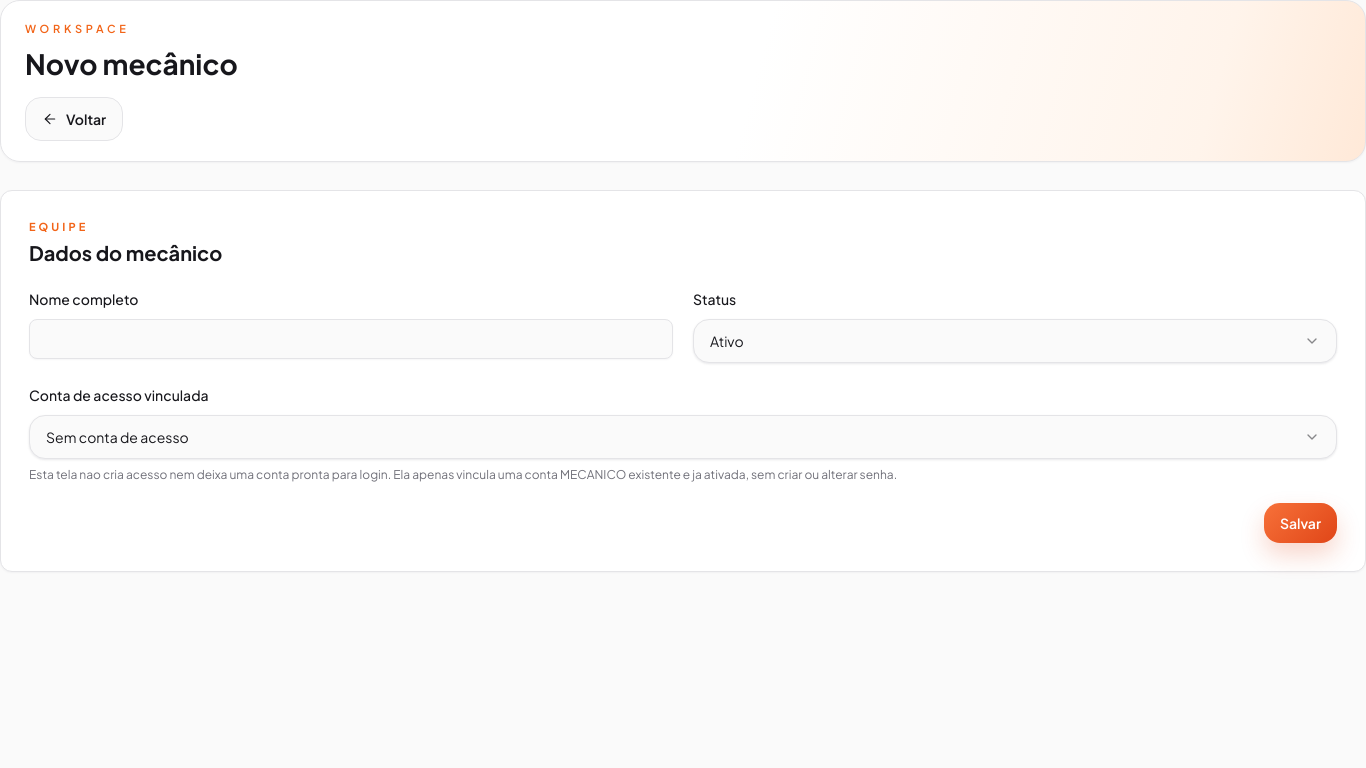
Test case: MechanicFormPage access account selector › requests the strict eligibility contract and shows only active MECANICO results
Expected: the text "vincula uma conta MECANICO existente" is shown, x1=29 y1=467 x2=897 y2=482
Click the dropdown labelled "Sem conta de acesso" at (117, 437), box x1=29 y1=415 x2=1337 y2=459
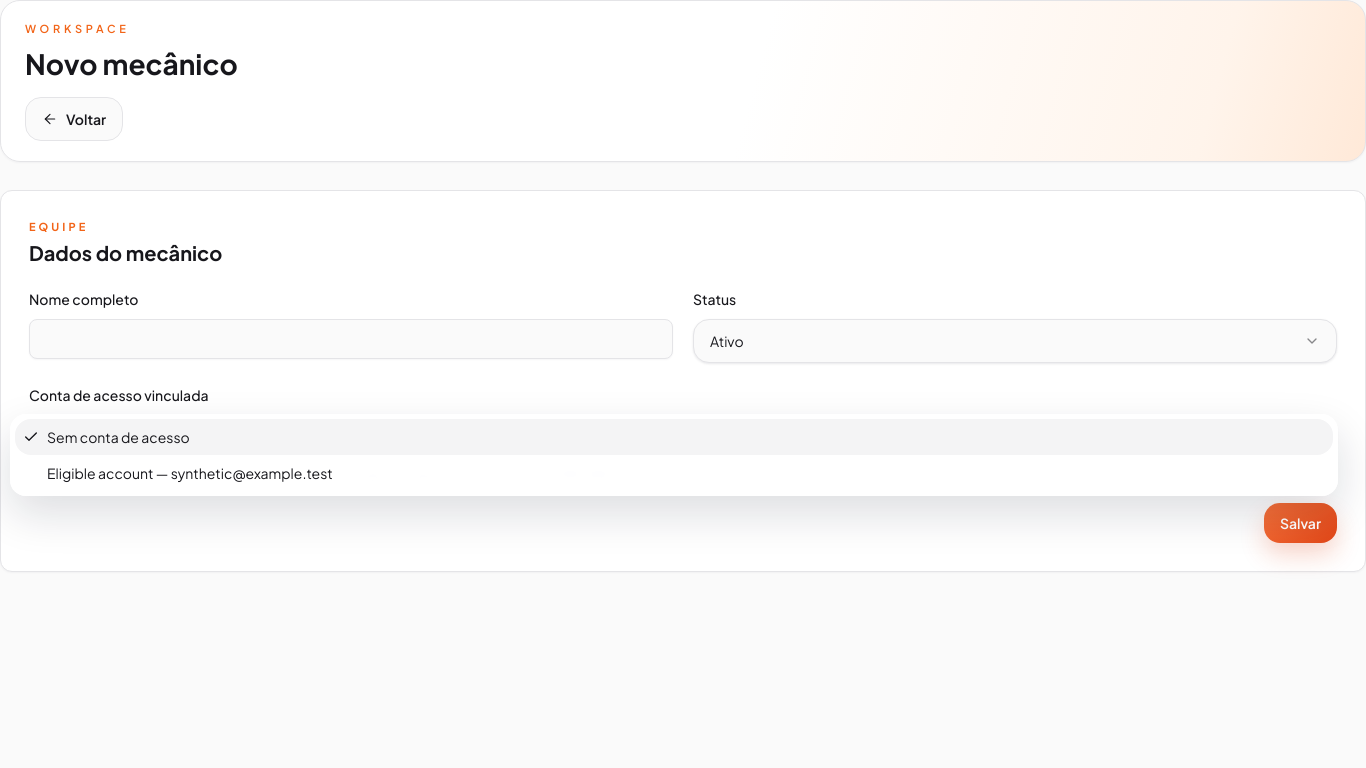
Now the option "Eligible account — synthetic@example.test" is shown, box x1=47 y1=464 x2=333 y2=482
